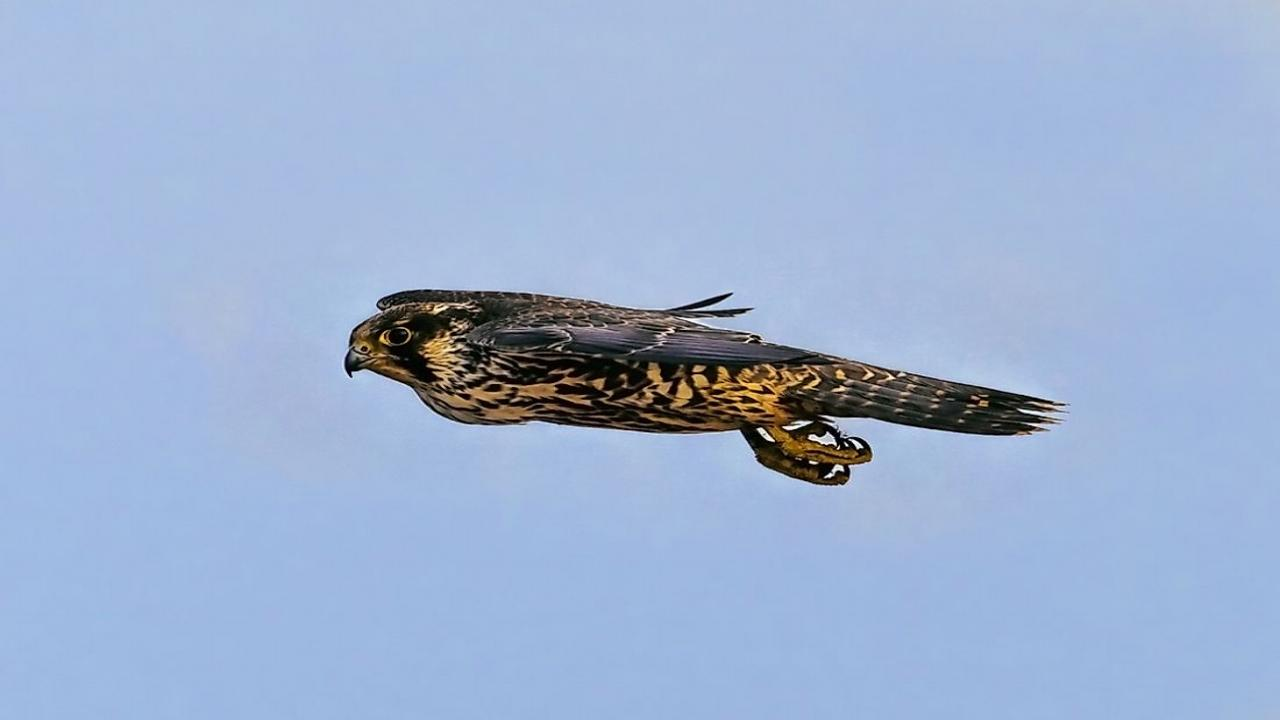Bird: (331, 278, 1081, 502)
